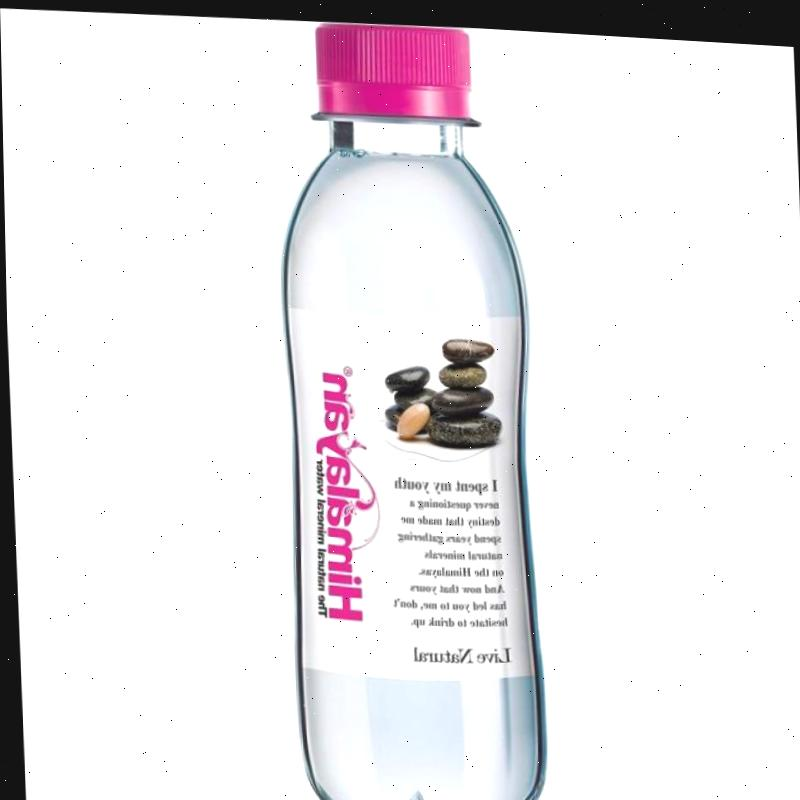botella: (268, 12, 545, 800)
